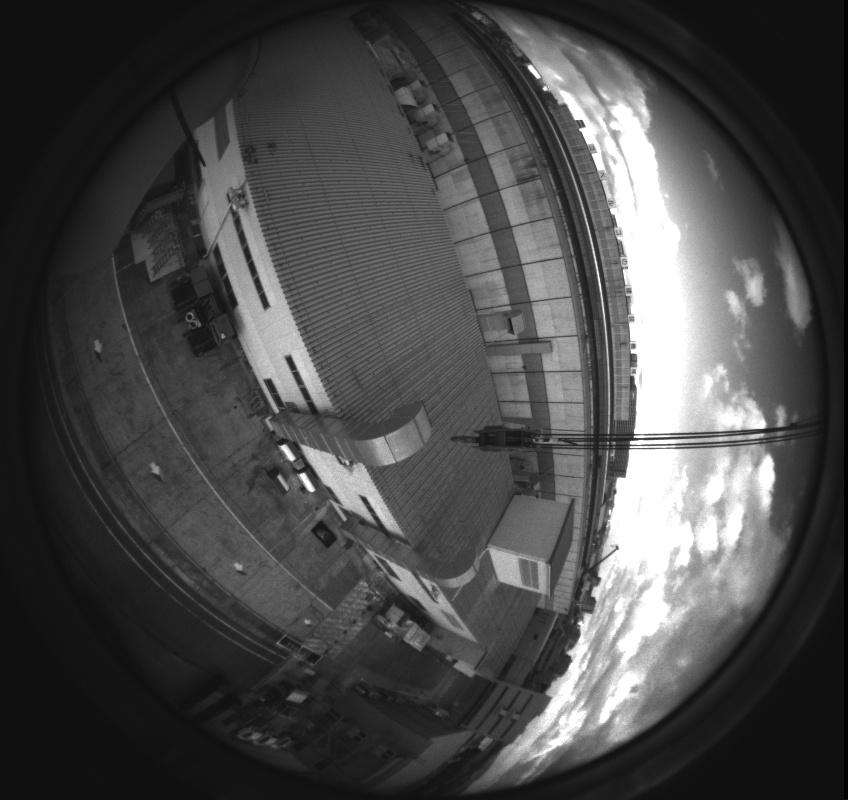rope: (435, 410, 840, 457)
